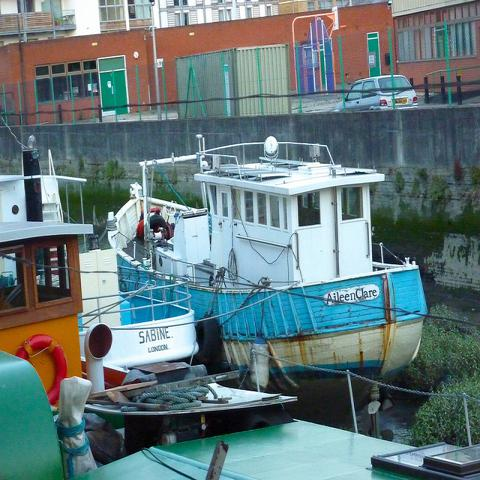car: (335, 79, 419, 108)
